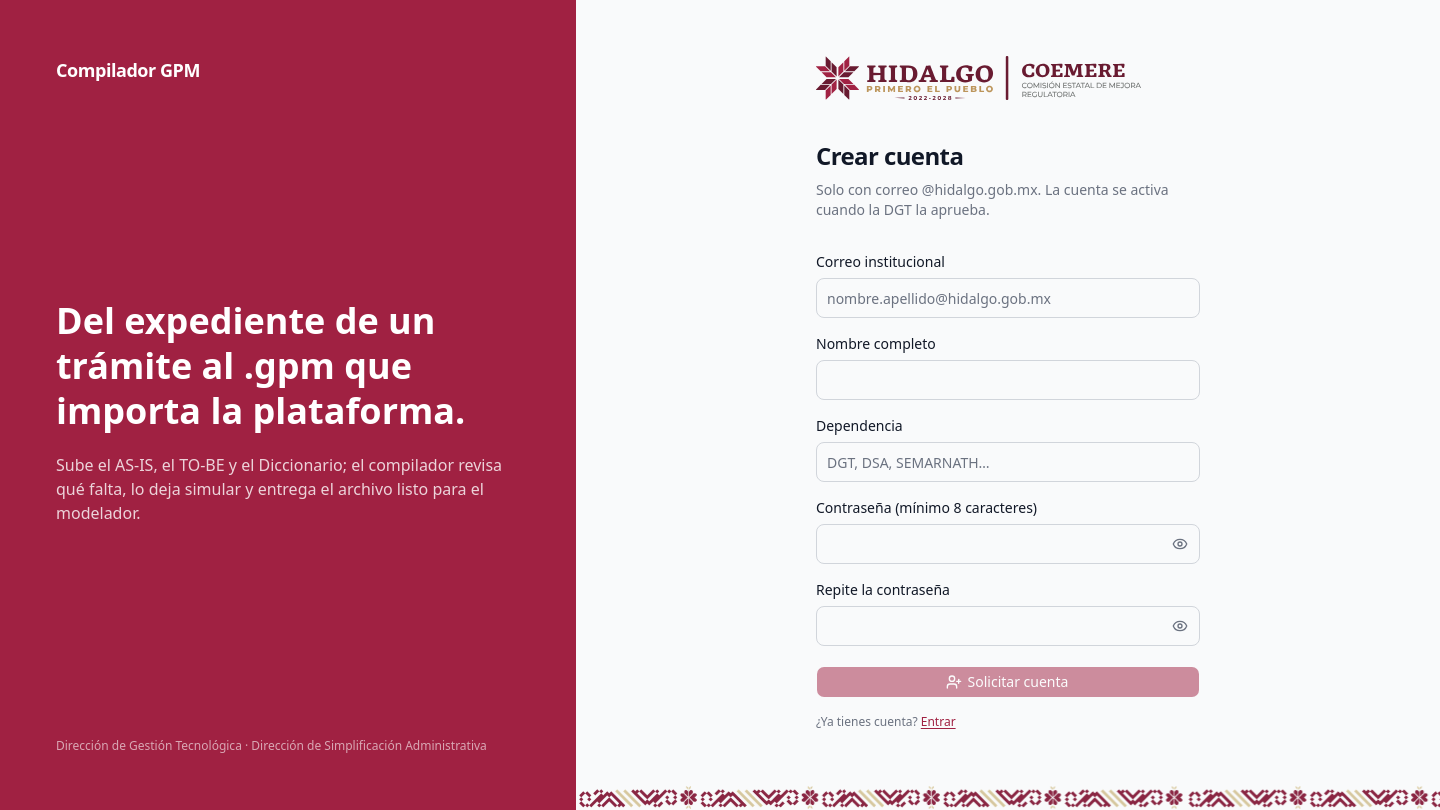
Test: un 422 del servidor se muestra con su motivo
The width and height of the screenshot is (1440, 810).
Type "luis.vera@hidalgo.gob.mx" into the field labelled "Correo institucional".
click(1008, 298); type("luis.vera@hidalgo.gob.mx")  # box left=816, top=278, right=1200, bottom=318
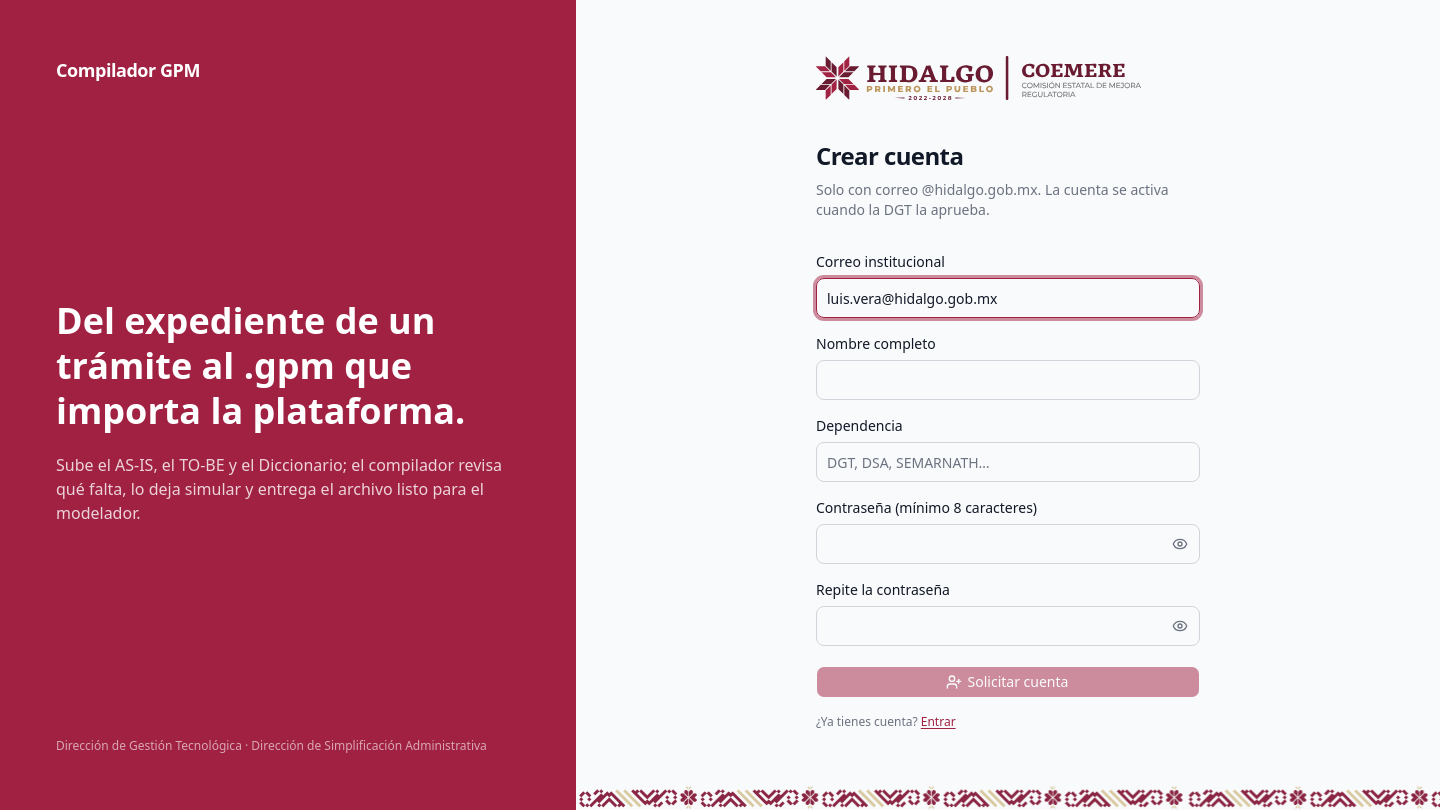
Type "Luis Vera" into the field labelled "Nombre completo".
click(1008, 380); type("Luis Vera")  # box left=816, top=360, right=1200, bottom=400
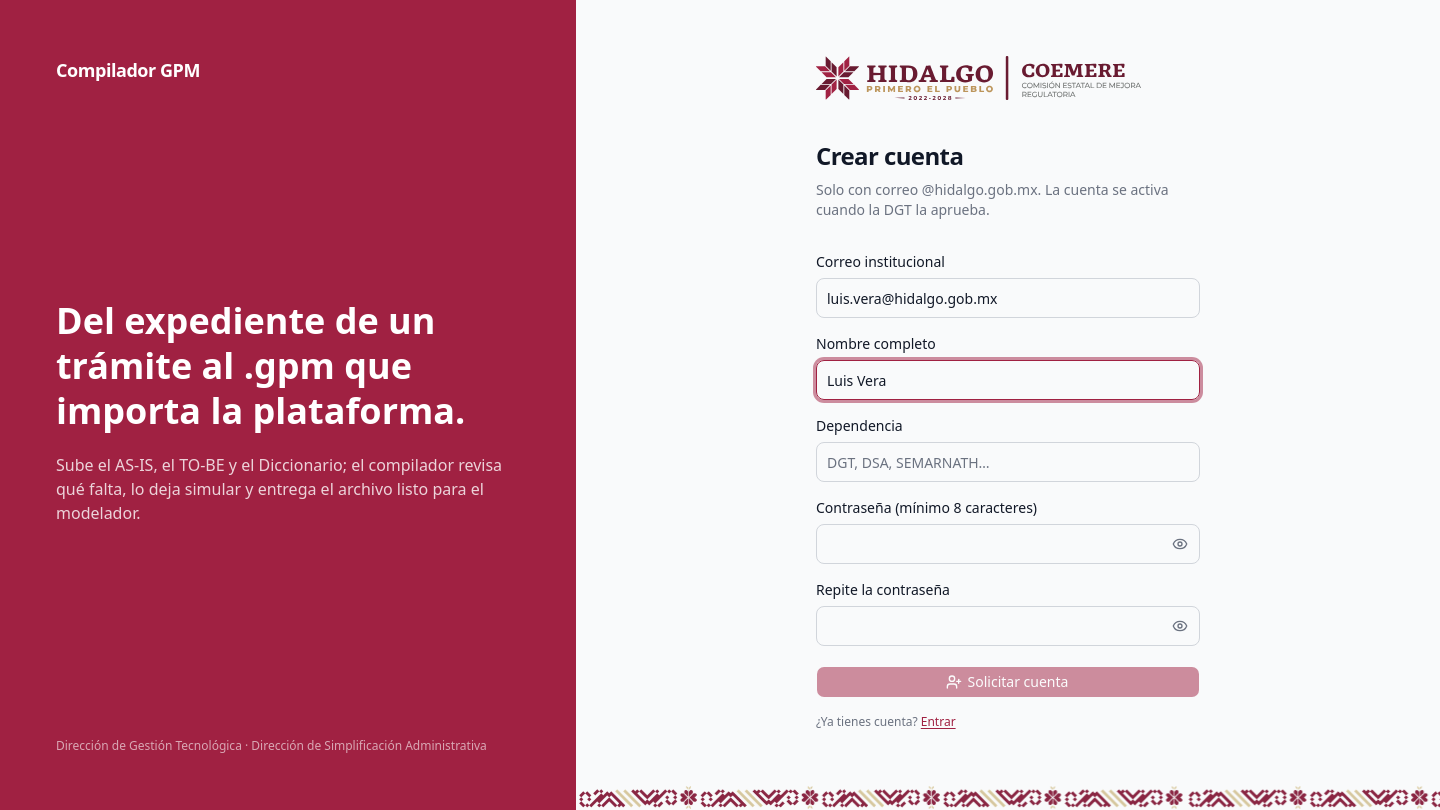
Type "DSA" into the field labelled "Dependencia".
click(1008, 462); type("DSA")  # box left=816, top=442, right=1200, bottom=482
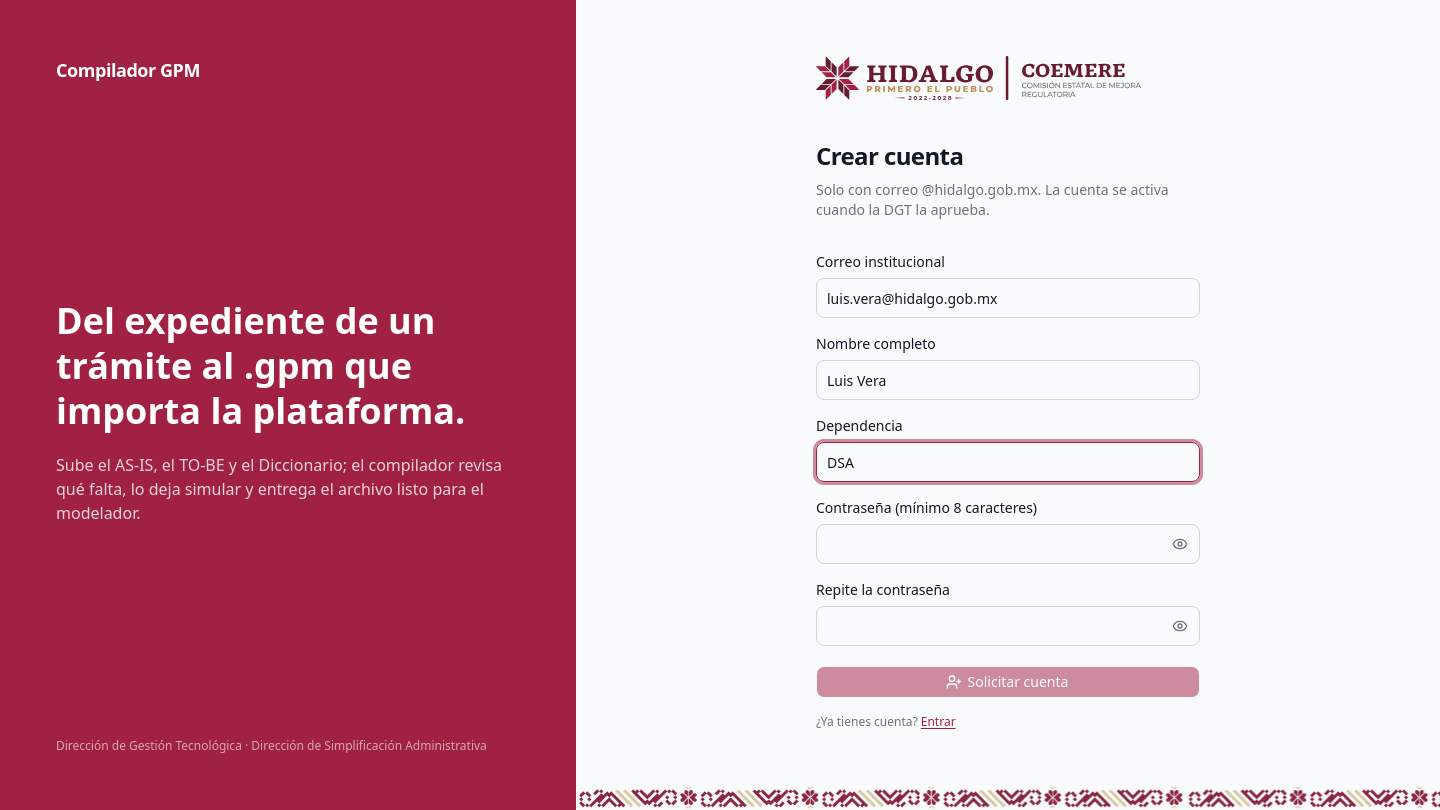
Type "Secreta-123" into the password field labelled "Contraseña (mínimo 8 caracteres)".
click(1008, 544); type("Secreta-123")  # box left=816, top=524, right=1200, bottom=564
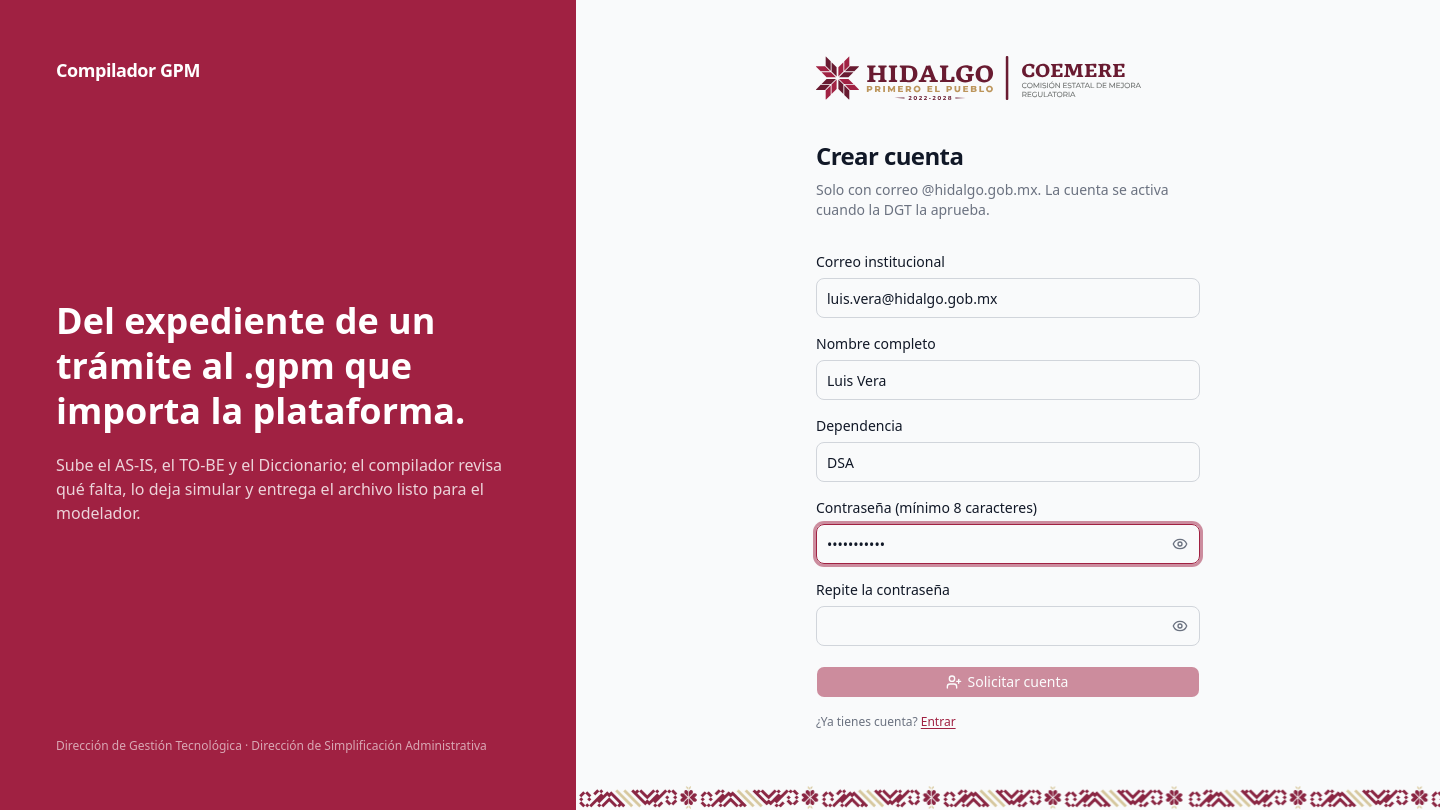
Type "Secreta-123" into the password field labelled "Repite la contraseña".
click(1008, 626); type("Secreta-123")  # box left=816, top=606, right=1200, bottom=646
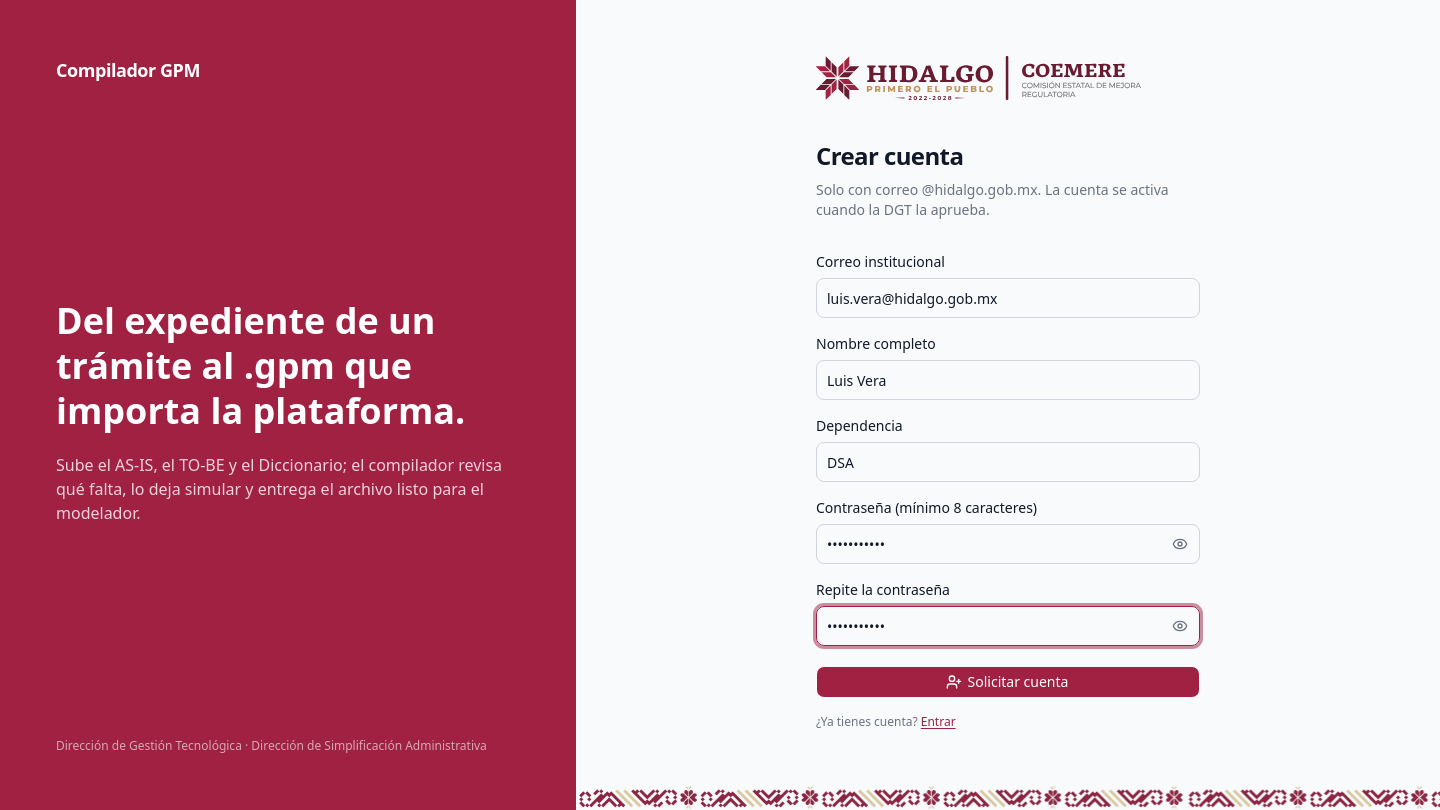
Click the button "Solicitar cuenta".
click(1008, 682)  # box left=816, top=666, right=1200, bottom=698
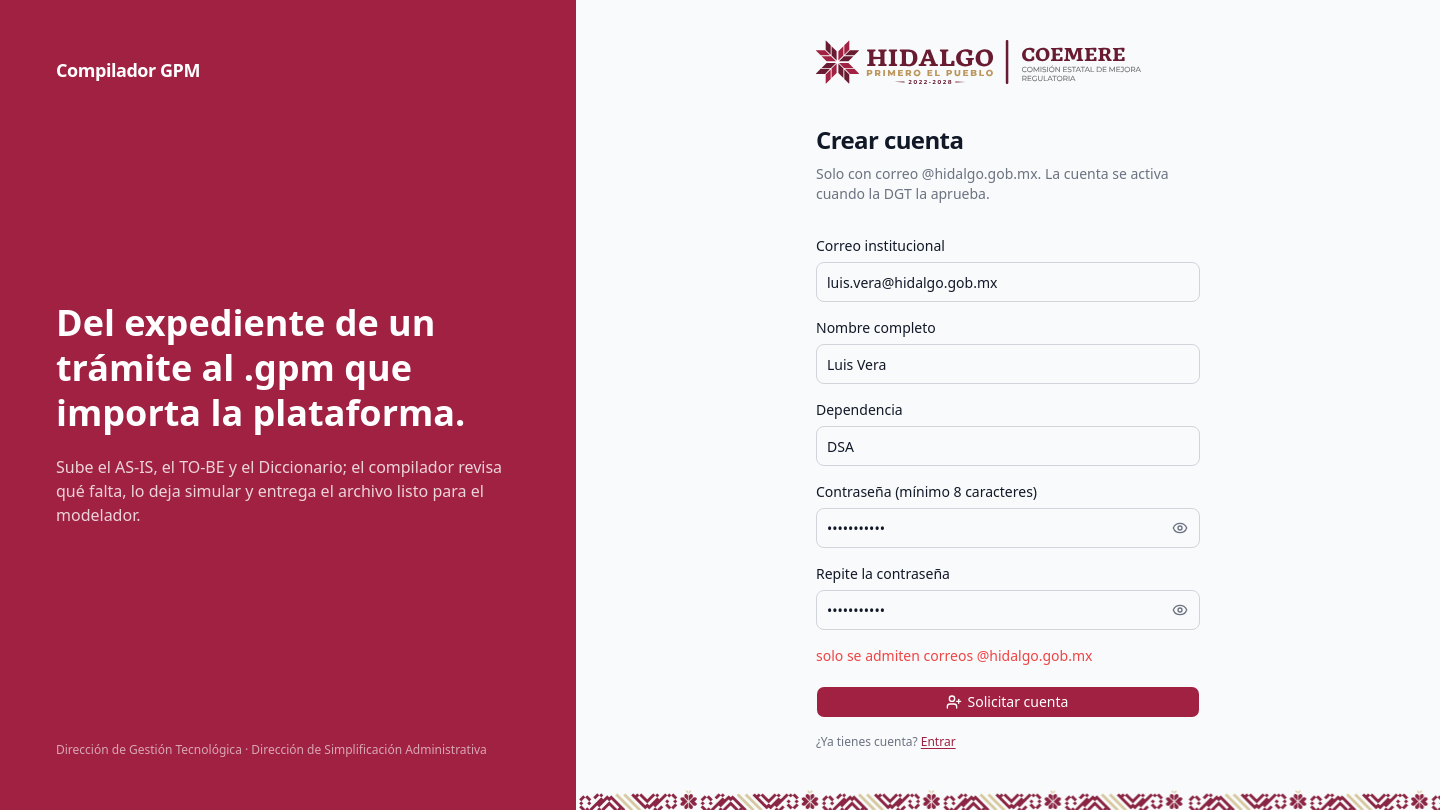
Now the message shows "solo se admiten correos", box left=816, top=646, right=1092, bottom=665
